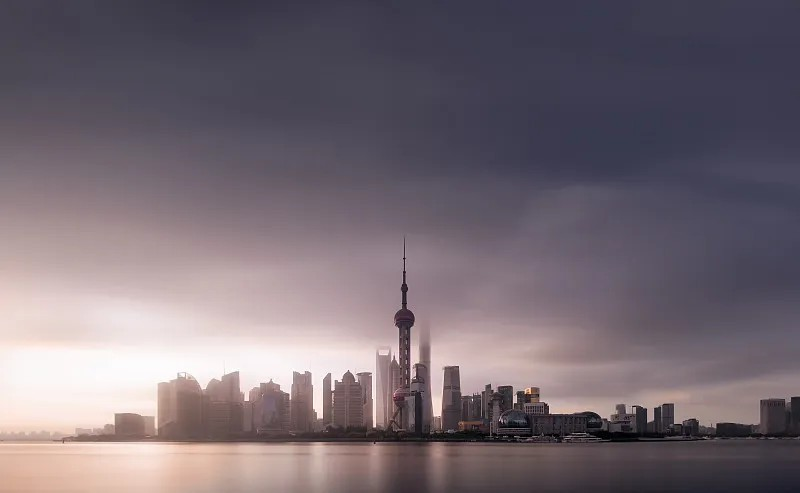Oriental: (388, 238, 415, 429)
